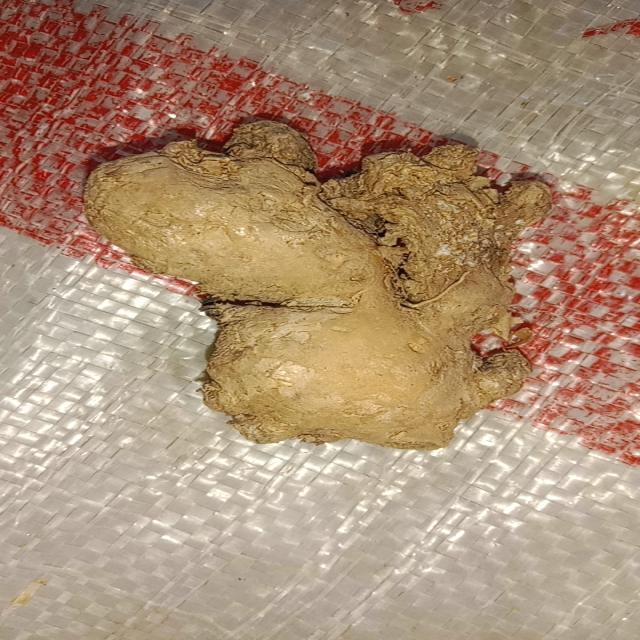ginger: (101, 130, 566, 457)
